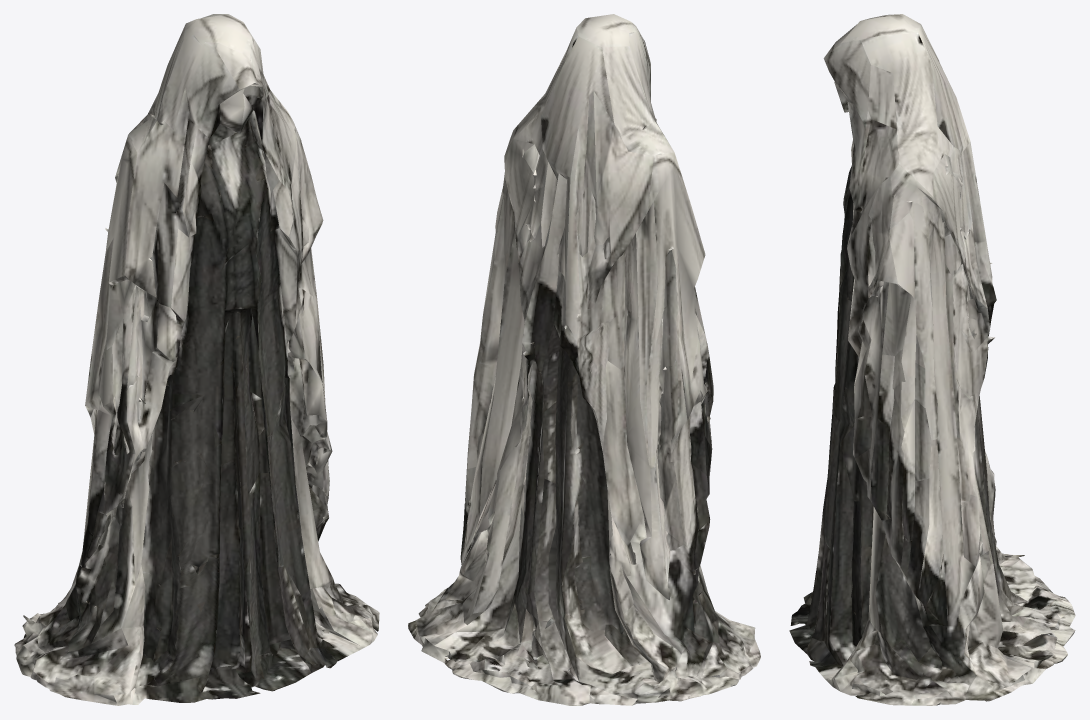
File: figura_velata.glb
The picture shows the model from 3 angles, left to right: view 1: azimuth 30°, elevation 25°; view 2: azimuth 150°, elevation 25°; view 3: azimuth 270°, elevation 25°; orthographic projection. The views are drawn at different scales.
Parts seen in each view (by area): view 1: geometry_0; view 2: geometry_0; view 3: geometry_0.
Part boxes in pixels (<box>): geometry_0: <box>14,14,379,705</box>; geometry_0: <box>408,14,760,705</box>; geometry_0: <box>789,14,1075,705</box>.
Size of the model in its own units: 1.07 by 1.96 by 0.831.
Materials: 1 (1 with a texture image).
